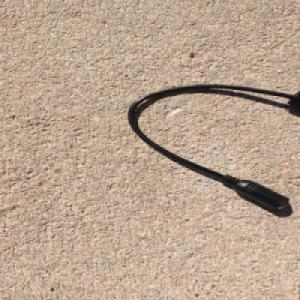Wire: (125, 82, 300, 212)
